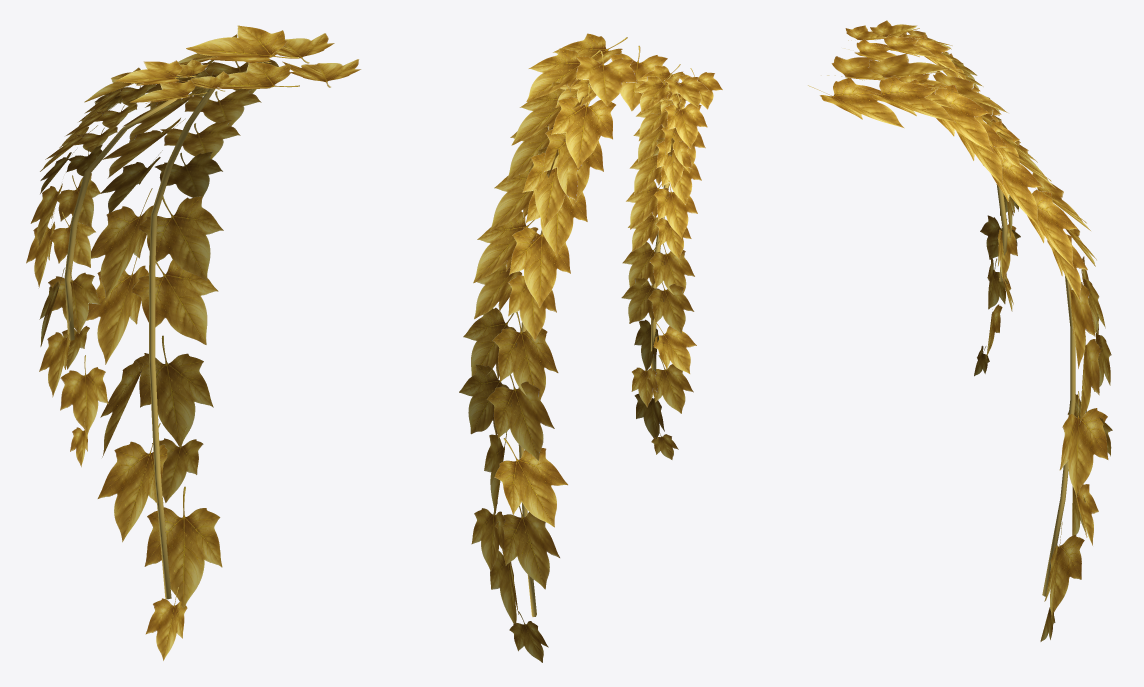
The model's file is goldenVine.fbx.
3 views of the same model, side by side, from view 1: azimuth 30°, elevation 25°; view 2: azimuth 150°, elevation 25°; view 3: azimuth 270°, elevation 25° (orthographic). The views are drawn at different scales.
Visible parts, largest first — view 1: Plane.040; view 2: Plane.040; view 3: Plane.040.
Part boxes in pixels (<box>): Plane.040: <box>26,25,361,660</box>; Plane.040: <box>459,33,722,662</box>; Plane.040: <box>808,20,1112,641</box>.
Size of the model in its own units: 53.84 by 112 by 59.69.
2 materials, 1 textured.
